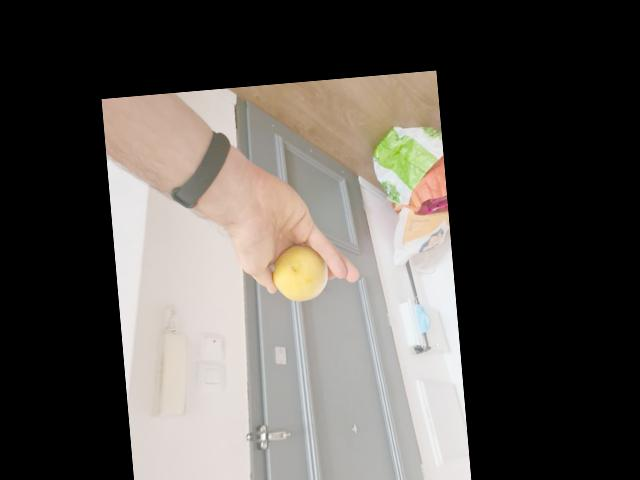lemon: (272, 241, 330, 304)
